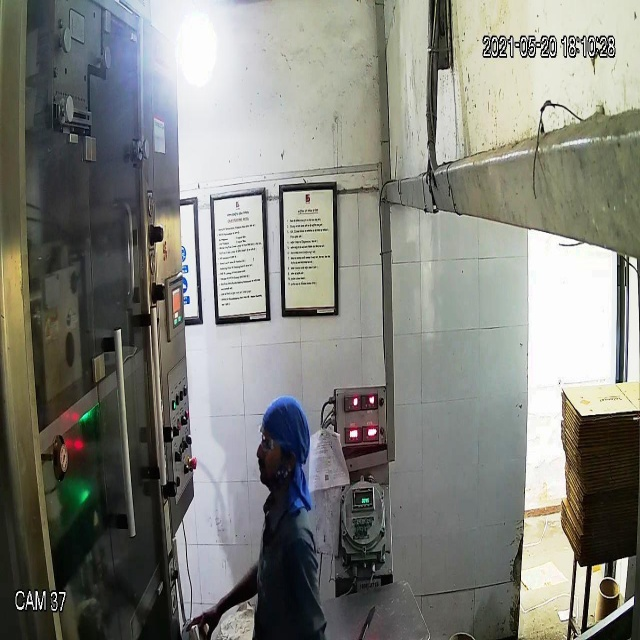Gafas: (255, 423, 291, 459)
